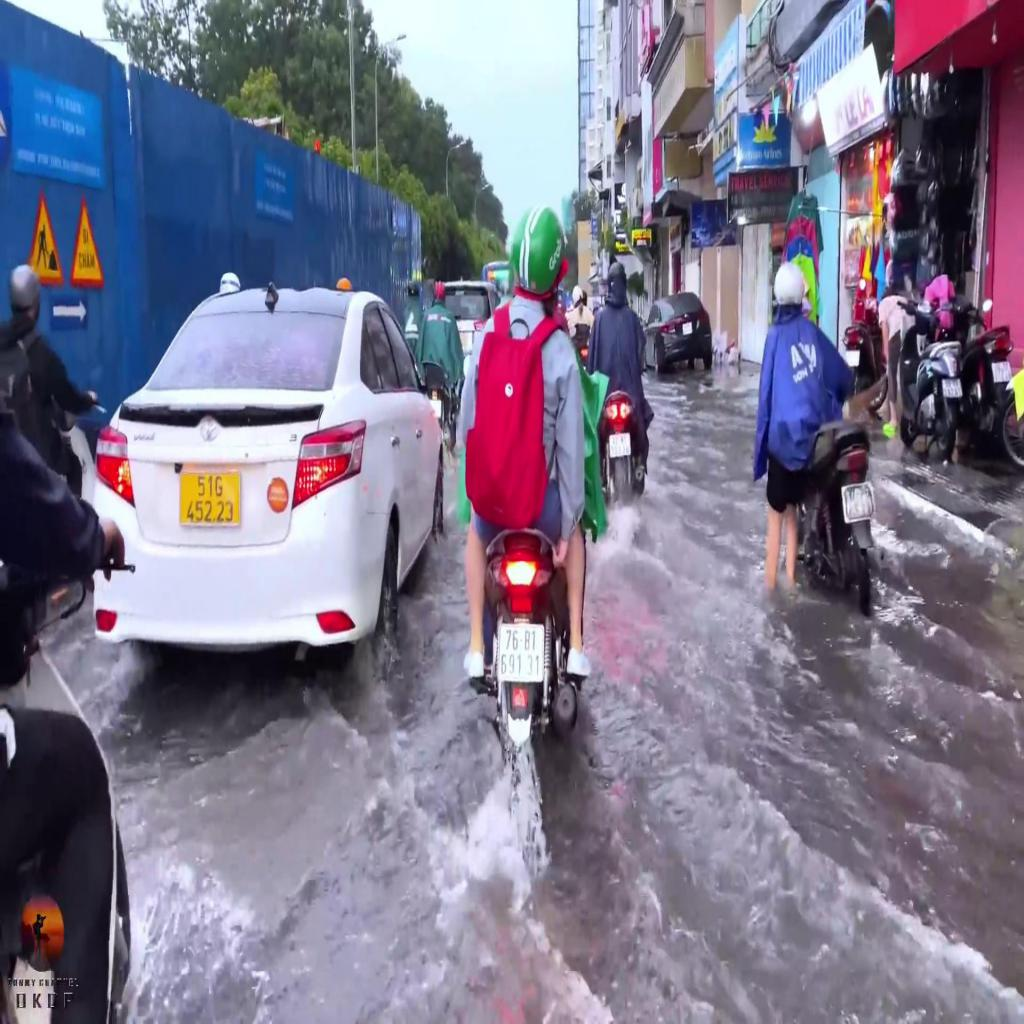cong_truong: (27, 192, 66, 284)
di_cham: (69, 196, 106, 288)
duong_mot_chieu: (50, 295, 88, 331)
